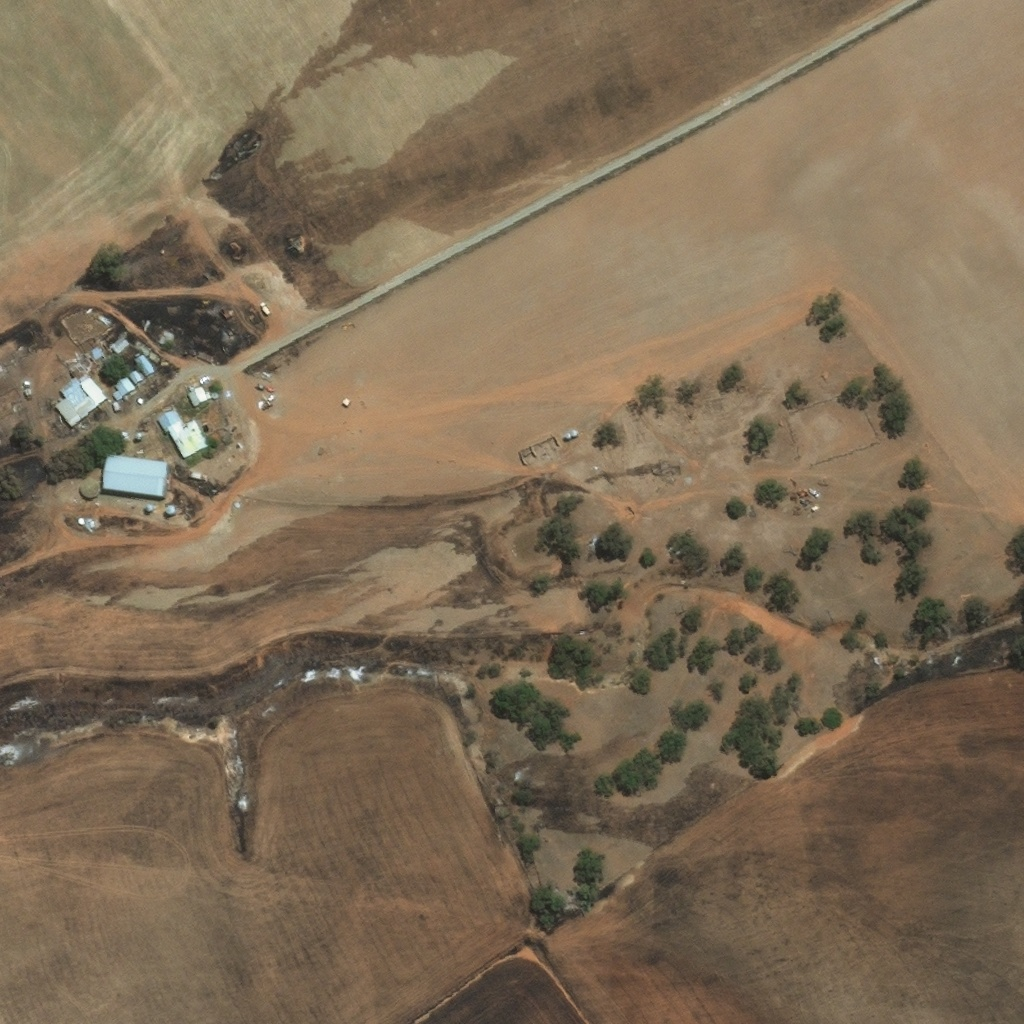0 no-damage: (99, 451, 171, 496), (53, 374, 107, 428), (154, 406, 209, 459), (111, 374, 135, 400), (132, 352, 155, 377), (186, 384, 208, 407), (108, 335, 129, 354), (79, 478, 99, 497), (127, 368, 143, 384), (89, 347, 102, 360), (165, 502, 176, 515), (142, 501, 155, 511), (111, 401, 119, 411), (135, 398, 142, 404)
